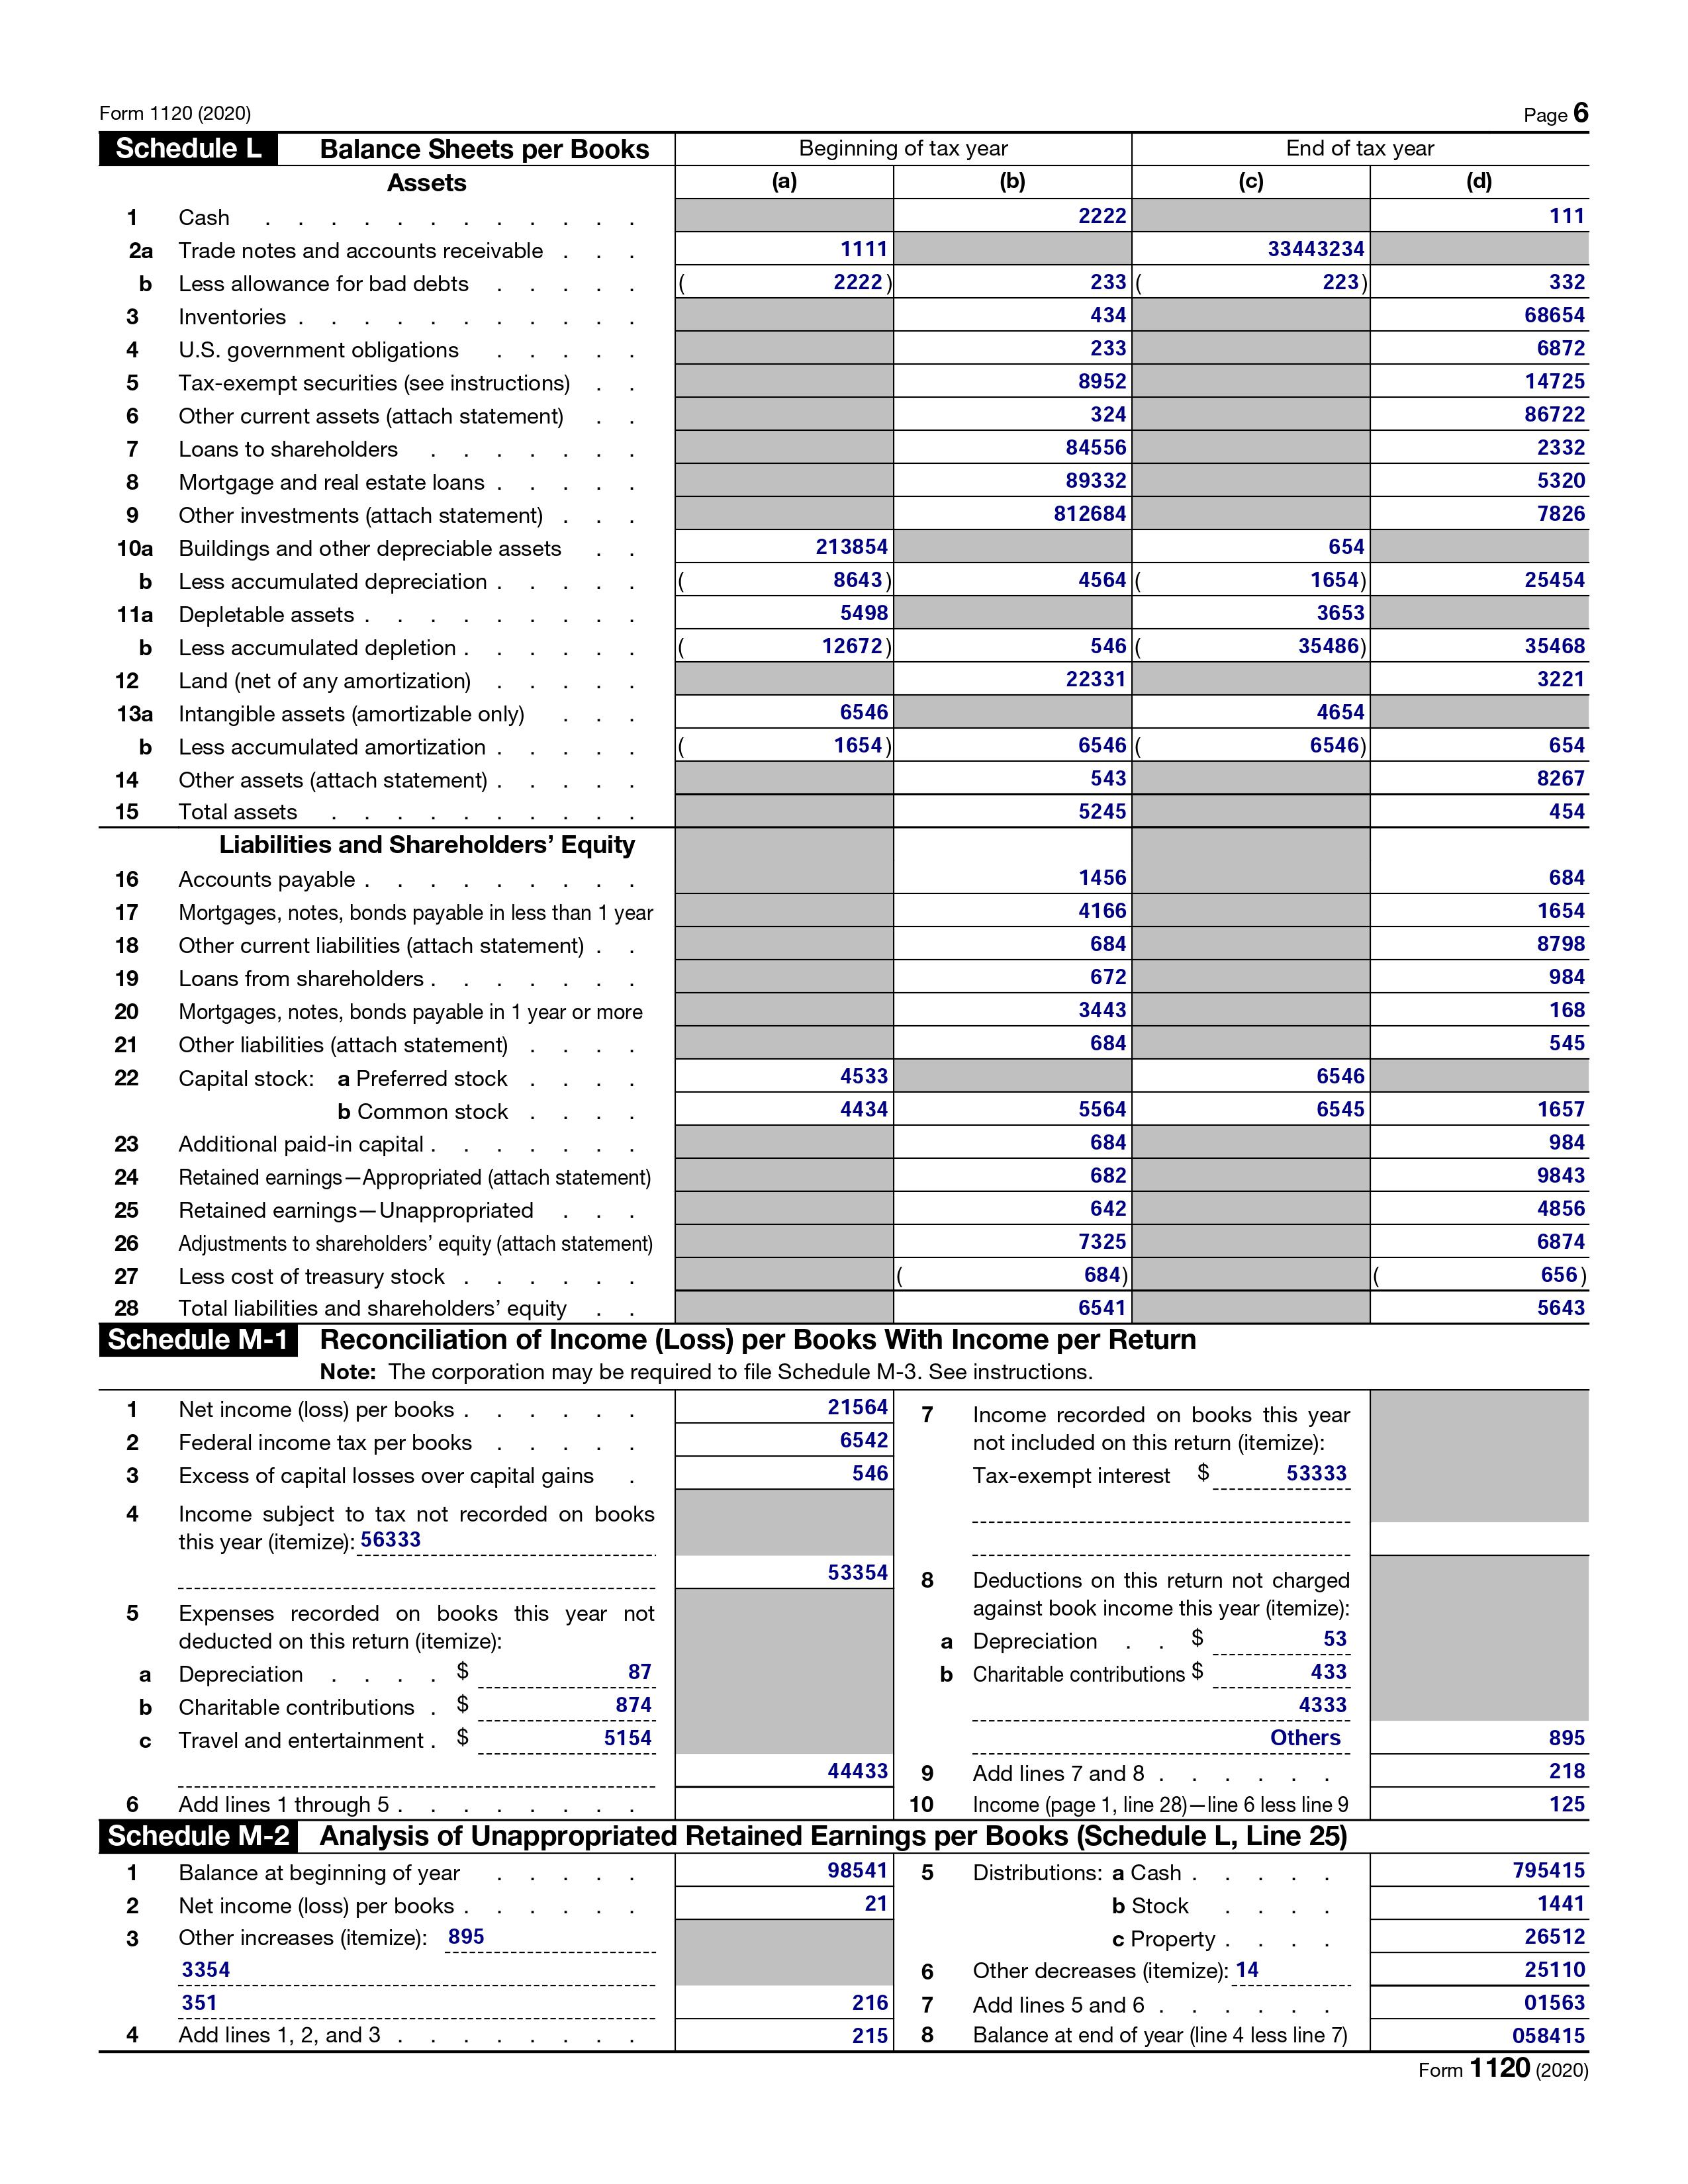table: (87, 124, 1610, 1328), (98, 1386, 903, 1821), (899, 1388, 1608, 1815), (115, 1860, 901, 2065), (906, 1854, 1612, 2048)
